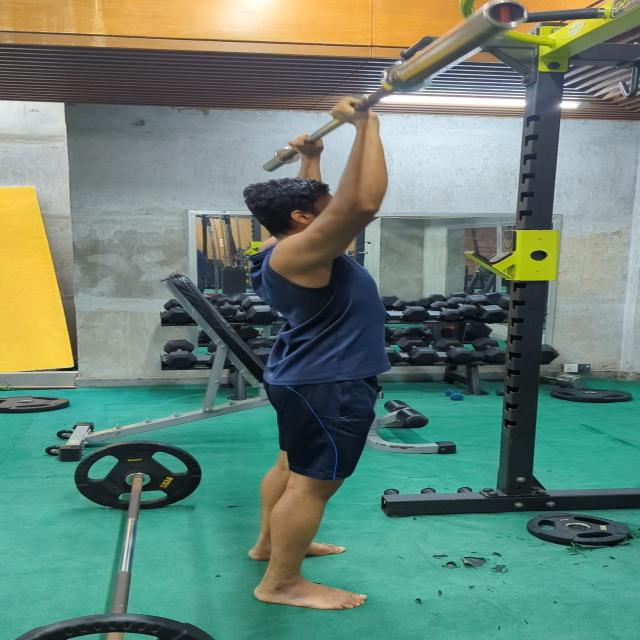Normal_OverheadPress: (213, 88, 412, 622)
